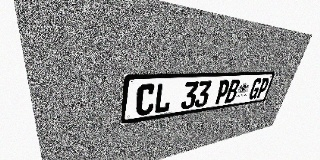3: (180, 81, 199, 110), (194, 81, 212, 108)
B: (224, 79, 241, 103)
C: (135, 83, 156, 117)
G: (247, 78, 263, 100)
L: (153, 83, 174, 114)
P: (214, 80, 231, 105), (255, 78, 270, 99)
